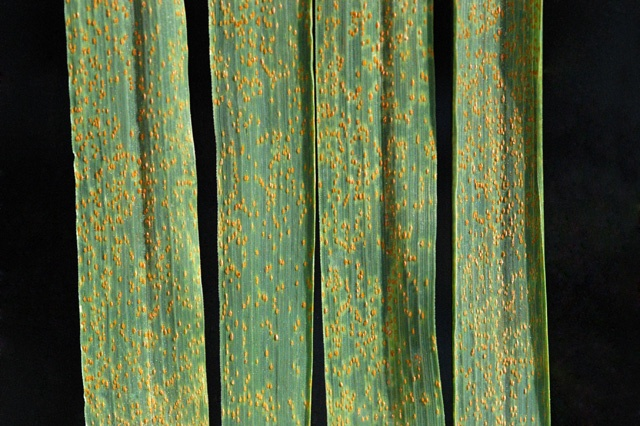Leaf Rust: (66, 9, 204, 409), (318, 65, 439, 391), (211, 16, 309, 417), (449, 99, 538, 362)
